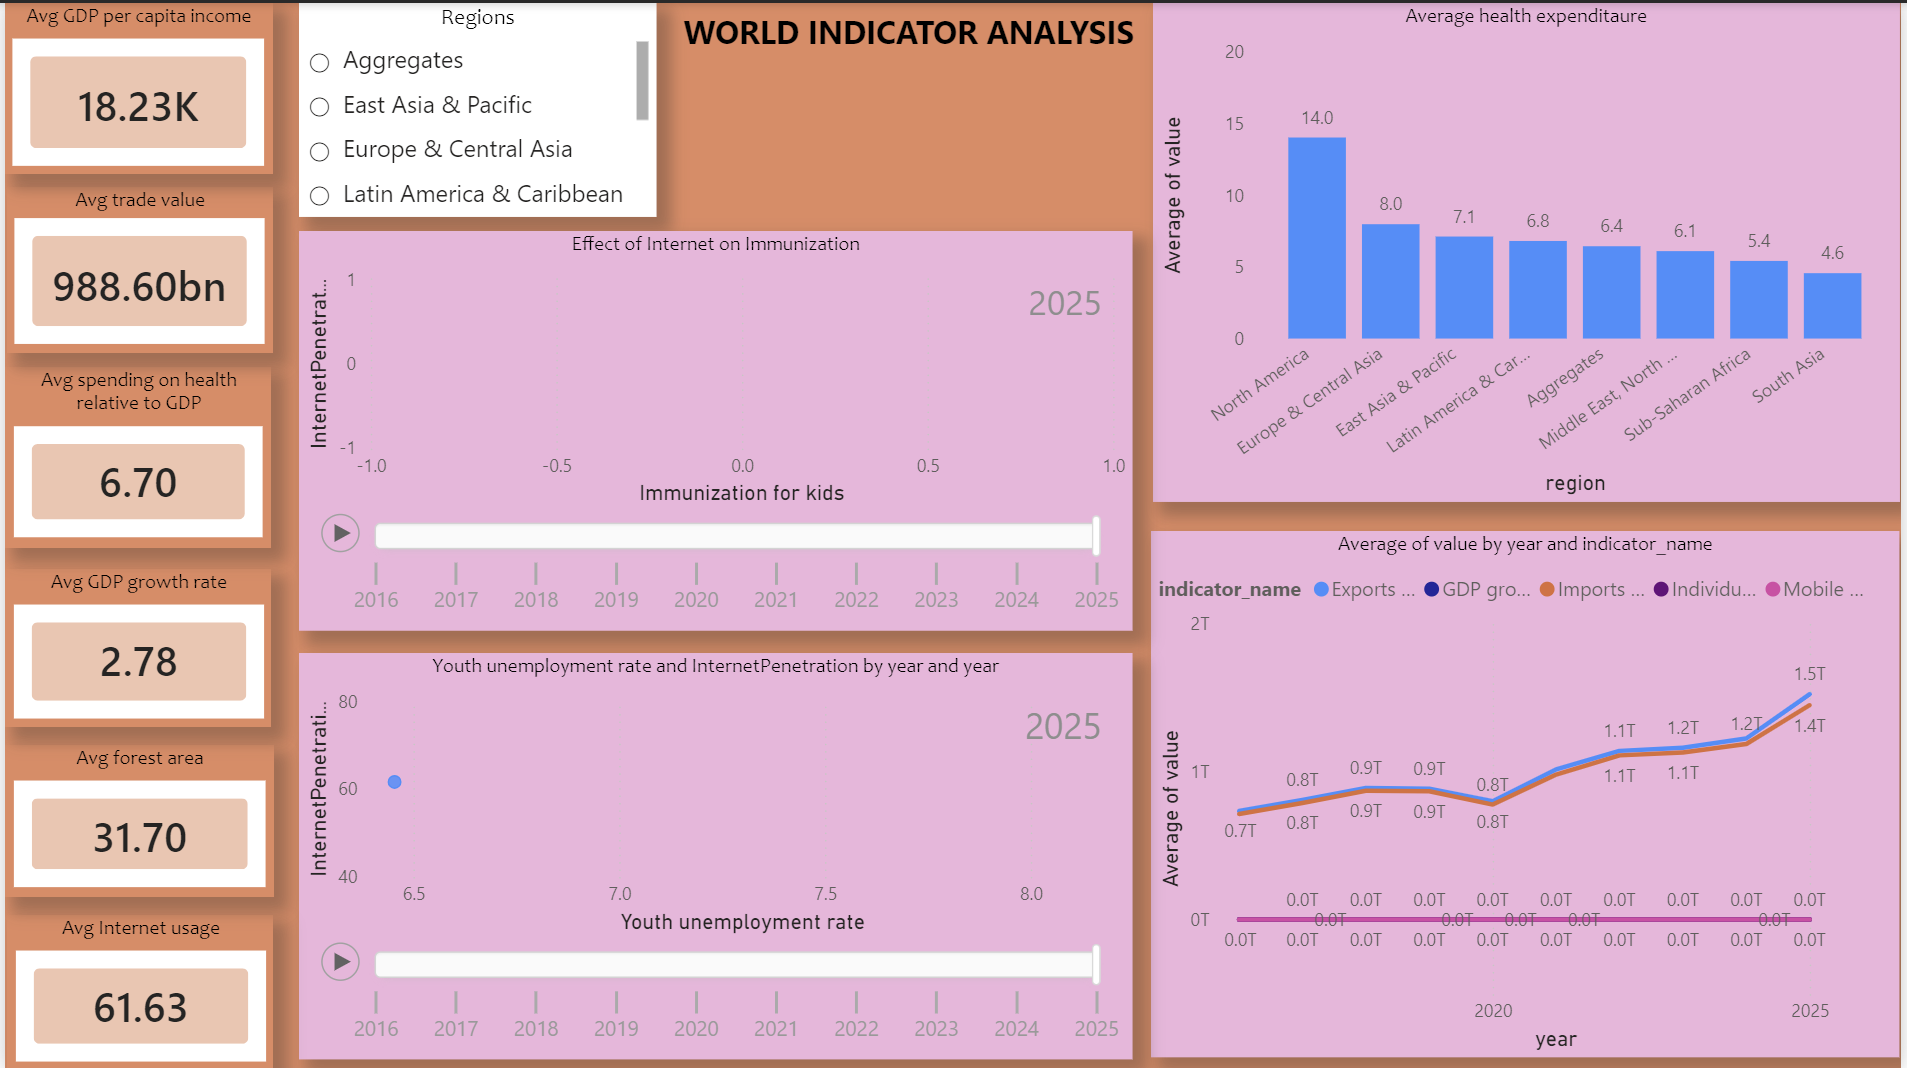

Layout of this report page (visuals, bound fields, positions):
{"tool":"powerbi","page":{"name":"Page 1","canvas":[1280,720],"ordinal":0},"visuals":[{"type":"cardVisual","title":"Avg GDP per capita income","fields":{"Data":["Avg(economic.value)"]},"box":[0,0,180.9,115.5],"z":0},{"type":"textbox","box":[421.1,0,377.8,57.8],"z":1000},{"type":"cardVisual","title":"Avg trade value ","fields":{"Data":["Avg(trade.value)"]},"box":[0.9,123.6,180,111.8],"z":2000},{"type":"cardVisual","title":"Avg spending on health relative to GDP","fields":{"Data":["Avg(health.value)"]},"box":[0,246.4,180,121.8],"z":3000},{"type":"cardVisual","title":"Avg GDP growth rate","fields":{"Data":["Avg(economic.value)"]},"box":[0,382.9,180,107.1],"z":4000},{"type":"cardVisual","title":"Avg forest area","fields":{"Data":["Avg(environment.value)"]},"box":[0,501.4,181.4,102.9],"z":5000},{"type":"listSlicer","title":"Regions","fields":{"Values":["environment.region"]},"box":[198.6,0,241.4,144.3],"z":6000},{"type":"columnChart","title":"Average health expenditaure","fields":{"Category":["health.region"],"Y":["Avg(health.value)"]},"box":[775.7,0,504.3,337.1],"z":7000},{"type":"lineChart","fields":{"Category":["line chart.year"],"Series":["line chart.indicator_name"],"Y":["Avg(line chart.value)"]},"box":[774.3,357.1,505.7,355.7],"z":8000},{"type":"scatterChart","title":"Effect of Internet on Immunization","fields":{"Category":["scatter plot_2.year"],"Play":["scatter plot_2.year"],"X":["Measure Table.Immunization for kids"],"Y":["Measure Table.InternetPenetration"]},"box":[198.6,154.3,562.9,270],"z":8001},{"type":"scatterChart","fields":{"Category":["scatter plot.year"],"Play":["scatter plot.year"],"X":["Measure Table.Youth unemployment rate"],"Y":["Measure Table.InternetPenetration"]},"box":[198.6,438.6,562.9,274.3],"z":8002},{"type":"cardVisual","title":"Avg Internet usage","fields":{"Data":["Avg(technology.value)"]},"box":[1.4,615.7,180,105.7],"z":8003}]}

Visuals, with their boxes in screenshot pixels (x1, y1, x2, y2), scaled from the page's 1280x720 canvas onto the 1907x1068 screenshot:
"Avg GDP per capita income" cardVisual: Rect(0, 0, 270, 171)
textbox: Rect(627, 0, 1190, 86)
"Avg trade value " cardVisual: Rect(1, 183, 270, 349)
"Avg spending on health relative to GDP" cardVisual: Rect(0, 365, 268, 546)
"Avg GDP growth rate" cardVisual: Rect(0, 568, 268, 727)
"Avg forest area" cardVisual: Rect(0, 744, 270, 896)
"Regions" listSlicer: Rect(296, 0, 656, 214)
"Average health expenditaure" columnChart: Rect(1156, 0, 1906, 500)
lineChart - line chart.year x line chart.indicator_name: Rect(1154, 530, 1906, 1057)
"Effect of Internet on Immunization" scatterChart: Rect(296, 229, 1135, 629)
scatterChart - scatter plot.year x scatter plot.year: Rect(296, 651, 1135, 1057)
"Avg Internet usage" cardVisual: Rect(2, 913, 270, 1067)
